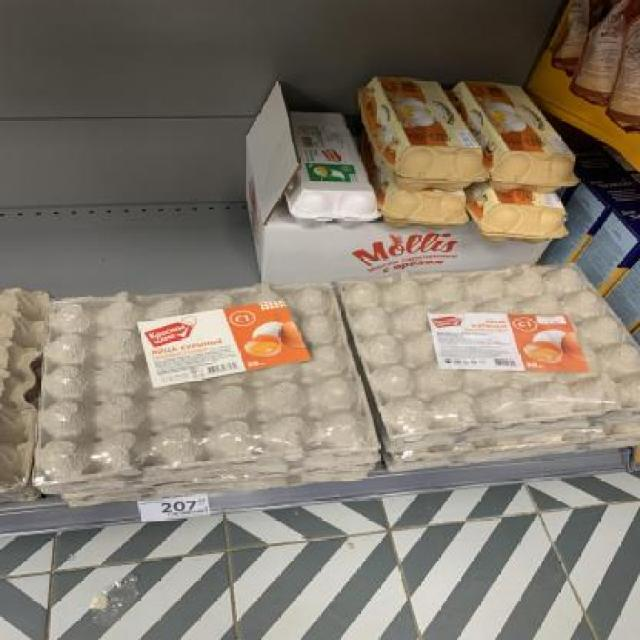egg: (360, 72, 482, 190), (458, 80, 574, 189), (288, 110, 378, 230), (472, 190, 562, 240), (383, 189, 466, 229)
